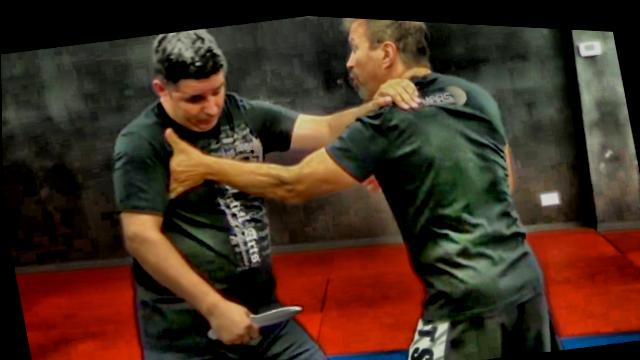knife: (201, 289, 313, 349)
